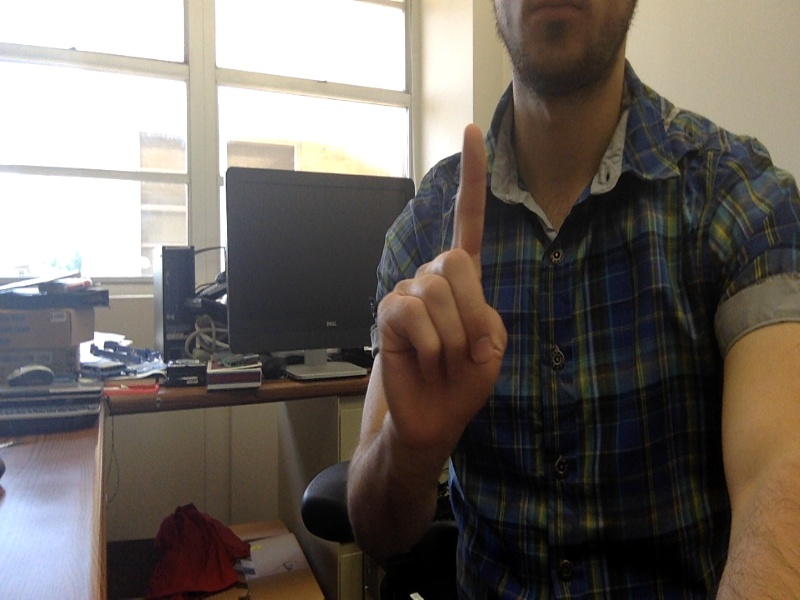1-hand: (377, 126, 506, 445)
